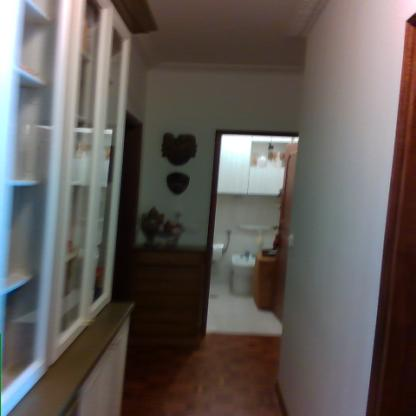open: (206, 127, 316, 342)
